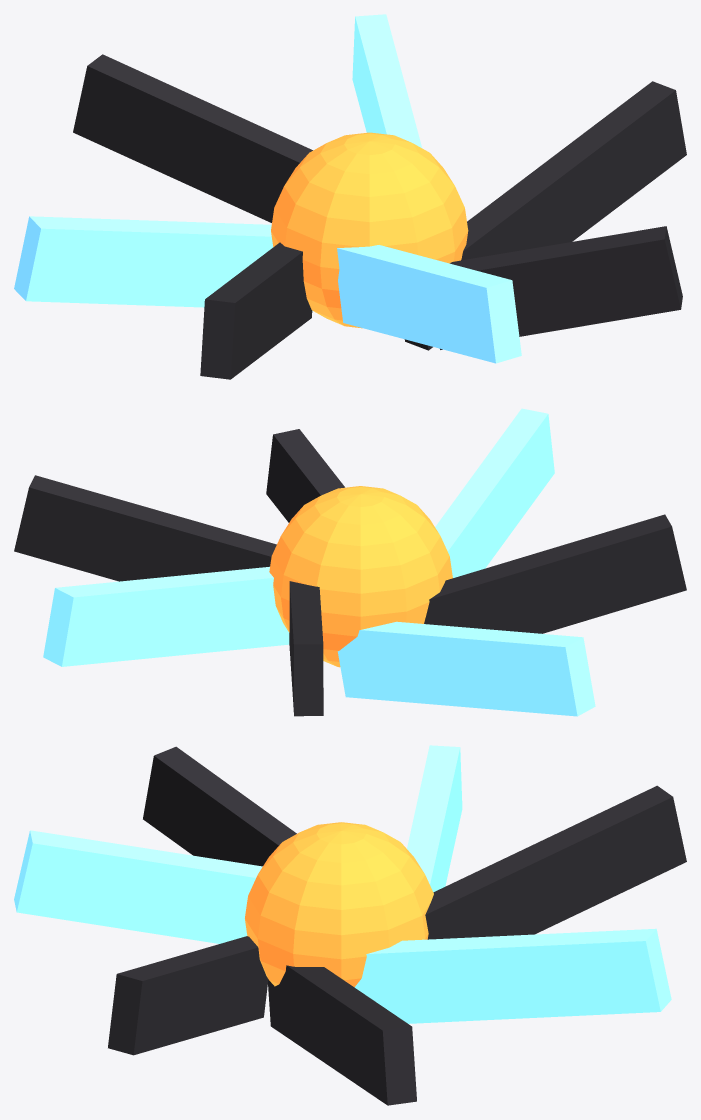
Rendered from shadow_burst.glb.
The picture shows the model from 3 angles, top to bottom: view 1: azimuth 30°, elevation 25°; view 2: azimuth 150°, elevation 25°; view 3: azimuth 270°, elevation 25°; orthographic projection. The views are drawn at different scales.
Parts seen in each view (by area): view 1: shadow burst ember, shadow burst veil 3, shadow burst veil 2, shadow burst veil 0, shadow burst veil 5, shadow burst veil 6, shadow burst veil 4, shadow burst veil 1; view 2: shadow burst ember, shadow burst veil 3, shadow burst veil 1, shadow burst veil 4, shadow burst veil 0, shadow burst veil 5, shadow burst veil 2, shadow burst veil 6; view 3: shadow burst veil 1, shadow burst ember, shadow burst veil 2, shadow burst veil 5, shadow burst veil 6, shadow burst veil 0, shadow burst veil 4, shadow burst veil 3.
Boxes of the visible parts, x1,y1,x2,y2 form: shadow burst ember: (271,132,468,328); shadow burst veil 3: (14,216,312,311); shadow burst veil 2: (73,54,312,222); shadow burst veil 0: (404,81,686,350); shadow burst veil 5: (337,245,521,363); shadow burst veil 6: (440,226,682,349); shadow burst veil 4: (200,242,312,379); shadow burst veil 1: (352,14,421,147); shadow burst ember: (269,486,452,667); shadow burst veil 3: (337,621,595,716); shadow burst veil 1: (43,566,289,666); shadow burst veil 4: (424,514,686,633); shadow burst veil 0: (14,475,276,581); shadow burst veil 5: (435,408,554,577); shadow burst veil 2: (289,581,323,716); shadow burst veil 6: (266,429,344,522); shadow burst veil 1: (354,928,671,1023); shadow burst ember: (245,822,433,987); shadow burst veil 2: (425,785,686,939); shadow burst veil 5: (14,830,262,943); shadow burst veil 6: (108,936,268,1055); shadow burst veil 0: (268,965,416,1105); shadow burst veil 4: (143,746,296,866); shadow burst veil 3: (407,745,462,892).
Bounding box in the file's own units: 0.747 × 0.2107 × 0.6959.
